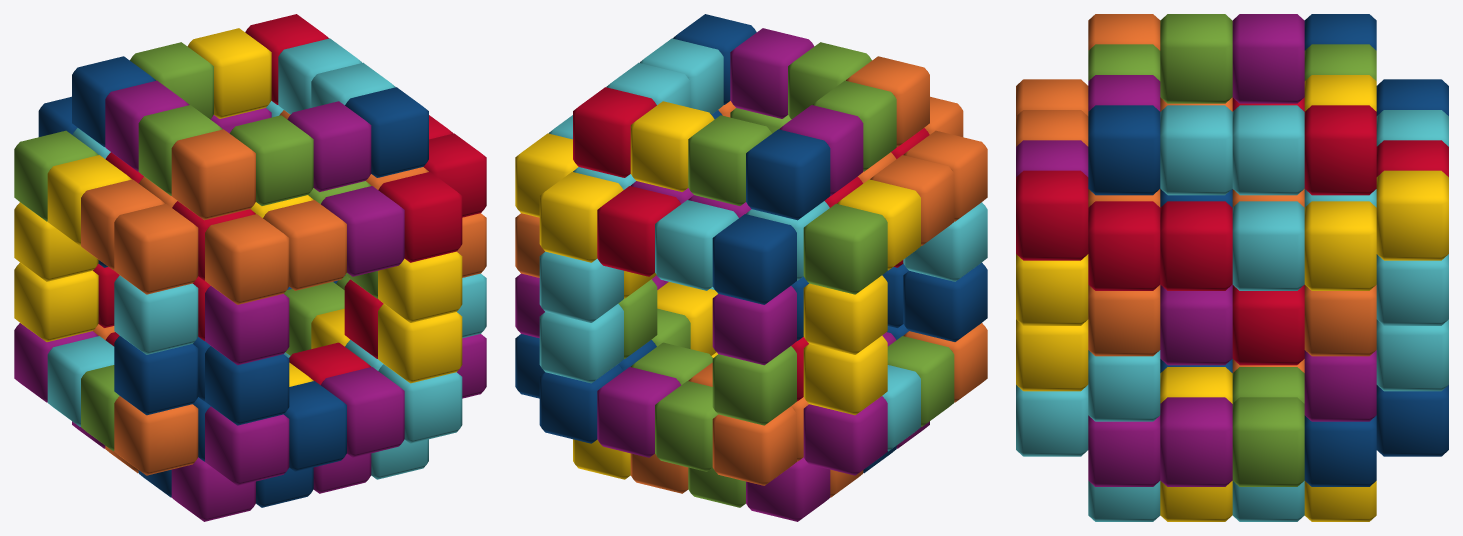
File: PRP_Cubes_02.FBX
3 views of the same model, side by side, from view 1: azimuth 30°, elevation 25°; view 2: azimuth 150°, elevation 25°; view 3: azimuth 270°, elevation 25° (orthographic). The views are drawn at different scales.
Parts seen in each view (by area): view 1: PRP_Cubes_07, PRP_Cubes_86, PRP_Cubes_74, PRP_Cubes_31, PRP_Cubes_72, PRP_Cubes_23, PRP_Cubes_21, PRP_Cubes_45, PRP_Cubes_57, PRP_Cubes_12, PRP_Cubes_157, PRP_Cubes_10 (+34 smaller); view 2: PRP_Cubes_196, PRP_Cubes_74, PRP_Cubes_140, PRP_Cubes_145, PRP_Cubes_181, PRP_Cubes_205, PRP_Cubes_86, PRP_Cubes_199, PRP_Cubes_168, PRP_Cubes_72, PRP_Cubes_151, PRP_Cubes_157 (+34 smaller); view 3: PRP_Cubes_72, PRP_Cubes_79, PRP_Cubes_62, PRP_Cubes_196, PRP_Cubes_168, PRP_Cubes_132, PRP_Cubes_31, PRP_Cubes_07, PRP_Cubes_37, PRP_Cubes_143, PRP_Cubes_10, PRP_Cubes_184 (+29 smaller).
Part boxes in pixels (left/top/right/bottom): PRP_Cubes_07: left=171, top=129, right=346, bottom=304; PRP_Cubes_86: left=114, top=336, right=289, bottom=425; PRP_Cubes_74: left=81, top=176, right=198, bottom=294; PRP_Cubes_31: left=345, top=340, right=462, bottom=479; PRP_Cubes_72: left=278, top=38, right=395, bottom=114; PRP_Cubes_23: left=205, top=406, right=289, bottom=485; PRP_Cubes_21: left=378, top=304, right=462, bottom=383; PRP_Cubes_45: left=114, top=275, right=198, bottom=354; PRP_Cubes_57: left=114, top=396, right=198, bottom=475; PRP_Cubes_12: left=205, top=286, right=289, bottom=365; PRP_Cubes_157: left=14, top=262, right=98, bottom=341; PRP_Cubes_10: left=378, top=172, right=462, bottom=262; PRP_Cubes_196: left=539, top=251, right=623, bottom=383; PRP_Cubes_74: left=858, top=130, right=987, bottom=245; PRP_Cubes_140: left=746, top=129, right=830, bottom=220; PRP_Cubes_145: left=803, top=203, right=887, bottom=294; PRP_Cubes_181: left=712, top=214, right=796, bottom=304; PRP_Cubes_205: left=655, top=381, right=745, bottom=507; PRP_Cubes_86: left=882, top=262, right=987, bottom=341; PRP_Cubes_199: left=688, top=362, right=808, bottom=485; PRP_Cubes_168: left=515, top=334, right=656, bottom=443; PRP_Cubes_72: left=606, top=38, right=723, bottom=114; PRP_Cubes_151: left=803, top=275, right=887, bottom=354; PRP_Cubes_157: left=803, top=336, right=887, bottom=415; PRP_Cubes_72: left=1160, top=105, right=1304, bottom=195; PRP_Cubes_79: left=1088, top=201, right=1232, bottom=290; PRP_Cubes_62: left=1088, top=397, right=1232, bottom=486; PRP_Cubes_196: left=1376, top=254, right=1448, bottom=391; PRP_Cubes_168: left=1304, top=385, right=1448, bottom=486; PRP_Cubes_132: left=1232, top=367, right=1304, bottom=486; PRP_Cubes_31: left=1016, top=385, right=1160, bottom=521; PRP_Cubes_07: left=1016, top=14, right=1160, bottom=146; PRP_Cubes_37: left=1088, top=105, right=1160, bottom=195; PRP_Cubes_143: left=1304, top=105, right=1376, bottom=195; PRP_Cubes_10: left=1016, top=170, right=1088, bottom=260; PRP_Cubes_184: left=1376, top=170, right=1448, bottom=260.
Size of the model in its own units: 60 by 60 by 60.
